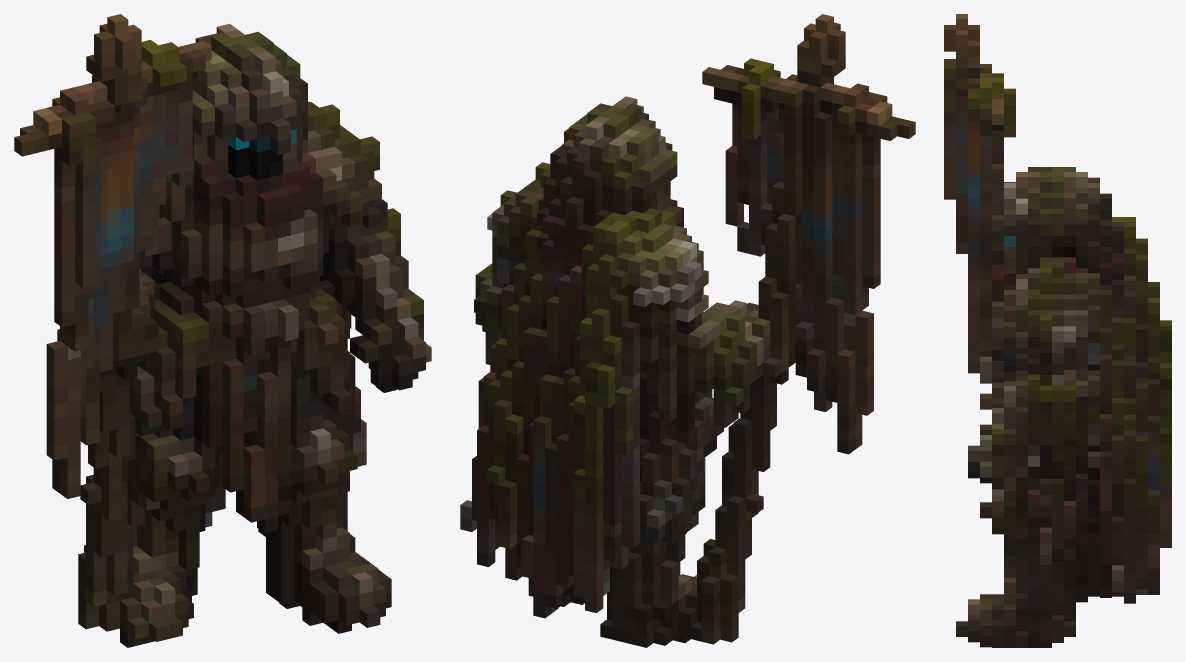
The model's file is u_porte_etendard.glb.
The picture shows the model from 3 angles, left to right: view 1: azimuth 30°, elevation 25°; view 2: azimuth 150°, elevation 25°; view 3: azimuth 270°, elevation 25°; orthographic projection. The views are drawn at different scales.
Parts seen in each view (by area): view 1: porte_etendard_body; view 2: porte_etendard_body; view 3: porte_etendard_body.
Boxes of the visible parts, x1=… form: porte_etendard_body: x1=14, y1=14, x2=431, y2=647; porte_etendard_body: x1=460, y1=14, x2=915, y2=647; porte_etendard_body: x1=944, y1=14, x2=1171, y2=647.
Bounding box in the file's own units: 0.9 × 1.38 × 0.5344.
Materials: 1 (1 with a texture image).
